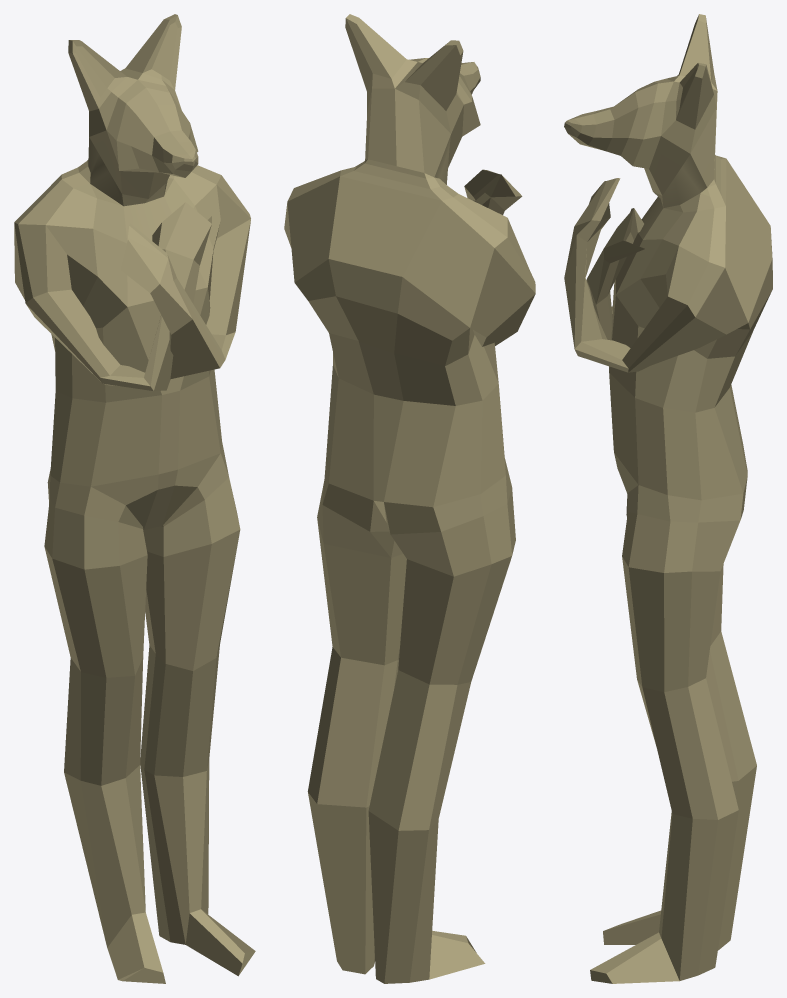
File: Stand_Statue_D.fbx
3 views of the same model, side by side, from view 1: azimuth 30°, elevation 25°; view 2: azimuth 150°, elevation 25°; view 3: azimuth 270°, elevation 25° (orthographic). The views are drawn at different scales.
Visible parts, largest first — view 1: Statue; view 2: Statue; view 3: Statue.
Part boxes in pixels (x1,y1,x2,y2): Statue: (14,14,255,983); Statue: (284,14,535,983); Statue: (564,14,772,983).
Size of the model in its own units: 149 by 568 by 118.
